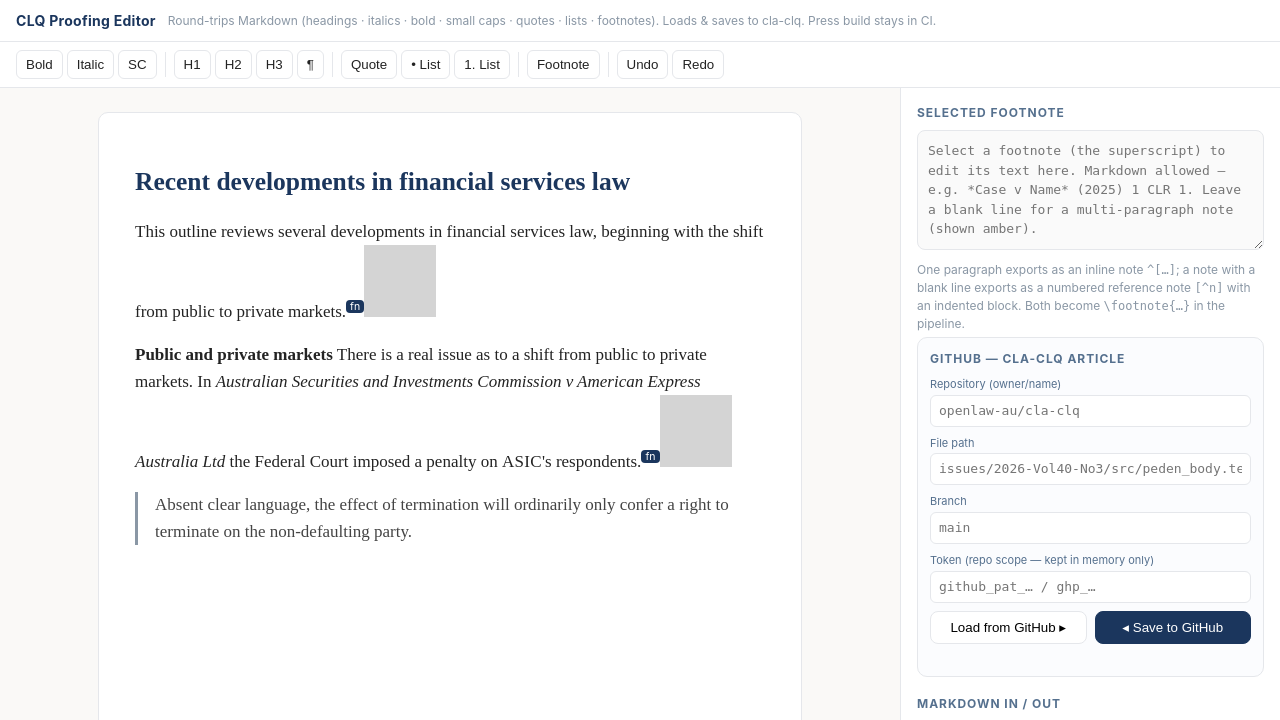
Test: ProofingEditor › GitHub panel › Save to GitHub: validation error (bad repo) short-circuits before the token check
Step 1. Type "bad repo no slash" into the field with placeholder "openlaw-au/cla-clq" → (1090, 411), box [930,394,1251,427]
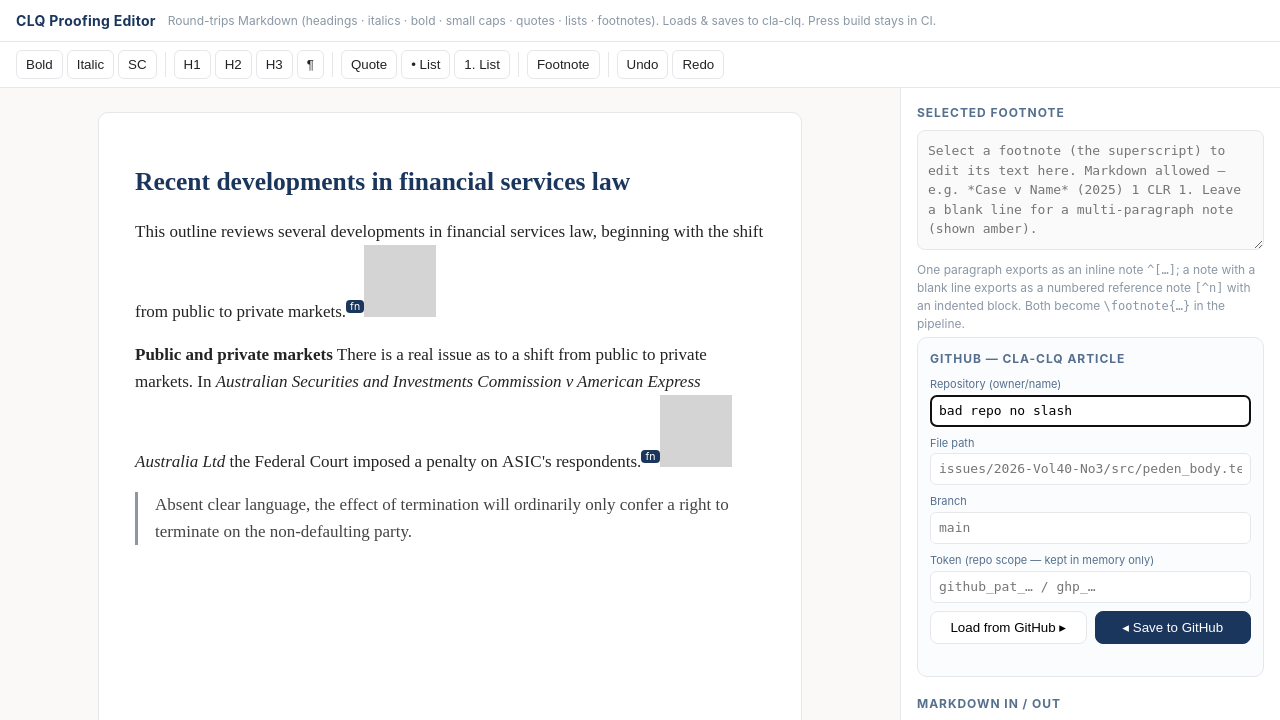
Step 2. Type "a.md" into the field with placeholder "issues/2026-Vol40-No3/src/peden_body.tex" → (1090, 469), box [930,453,1251,485]
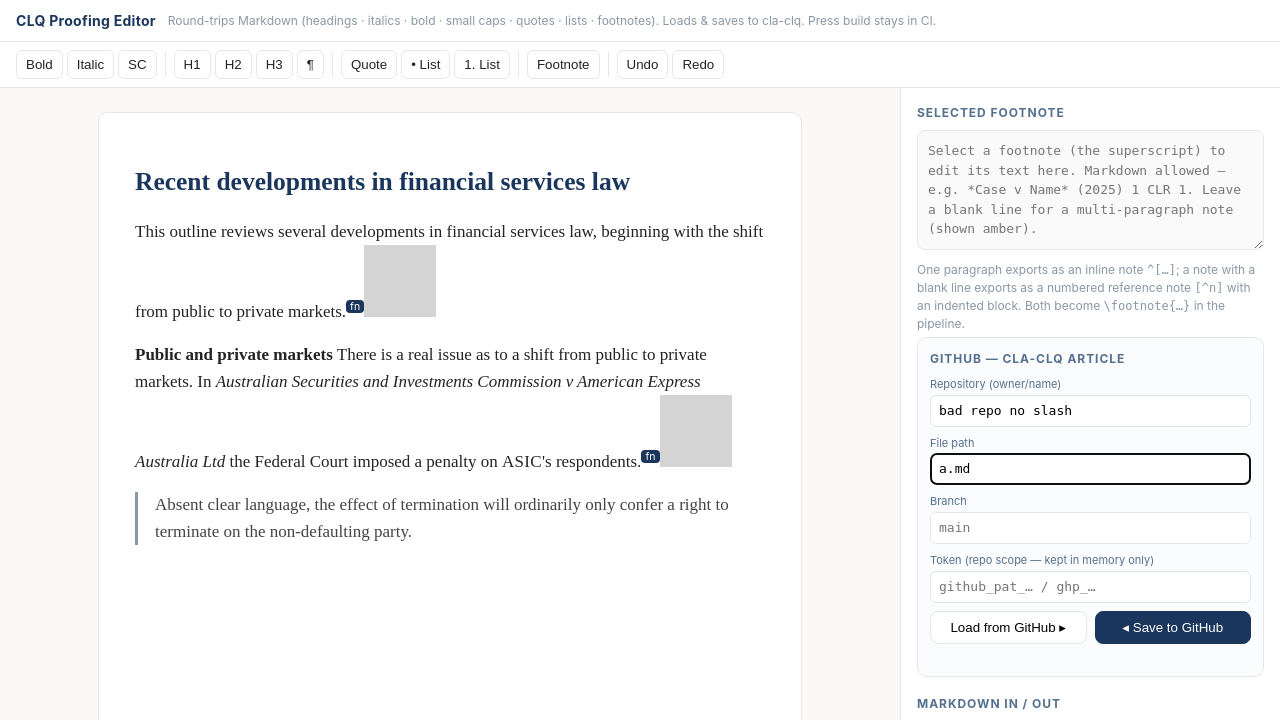
Step 3. Type "ghp_x" into the password field with placeholder "github_pat_… / ghp_…" → (1090, 587), box [930,571,1251,603]
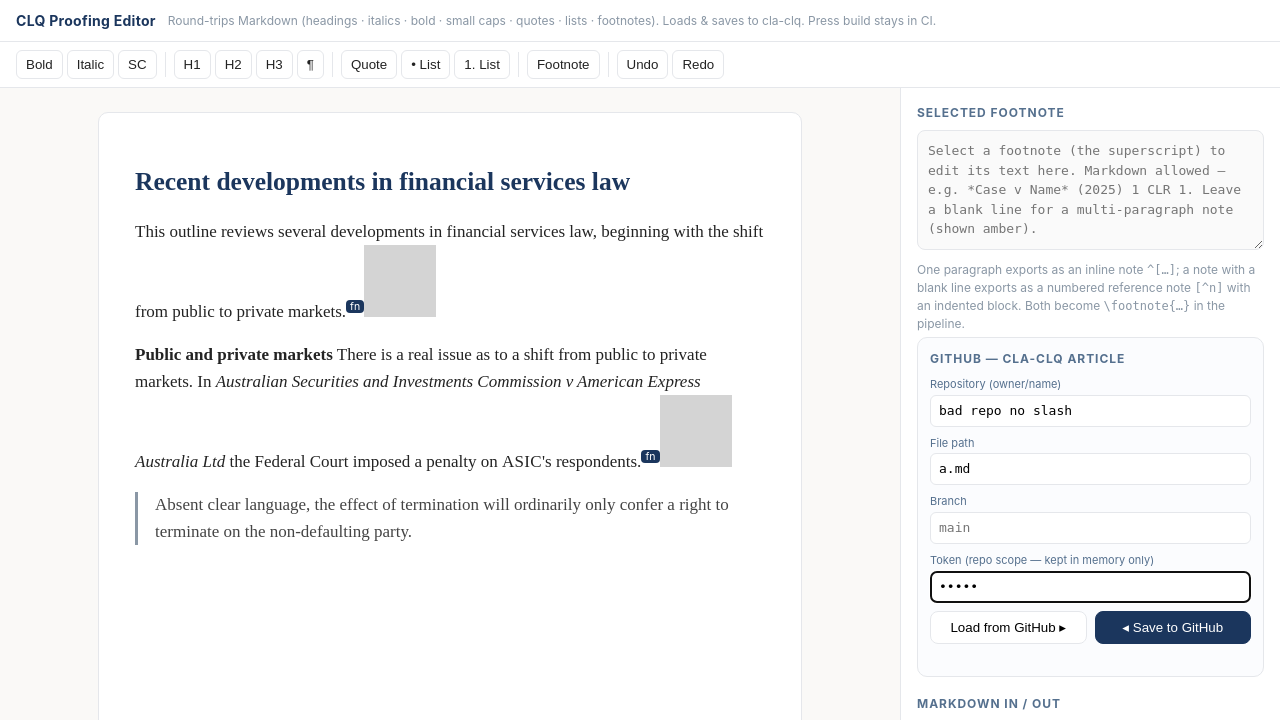
Step 4. Click the button "◂ Save to GitHub" → (1173, 627), box [1094,611,1251,644]
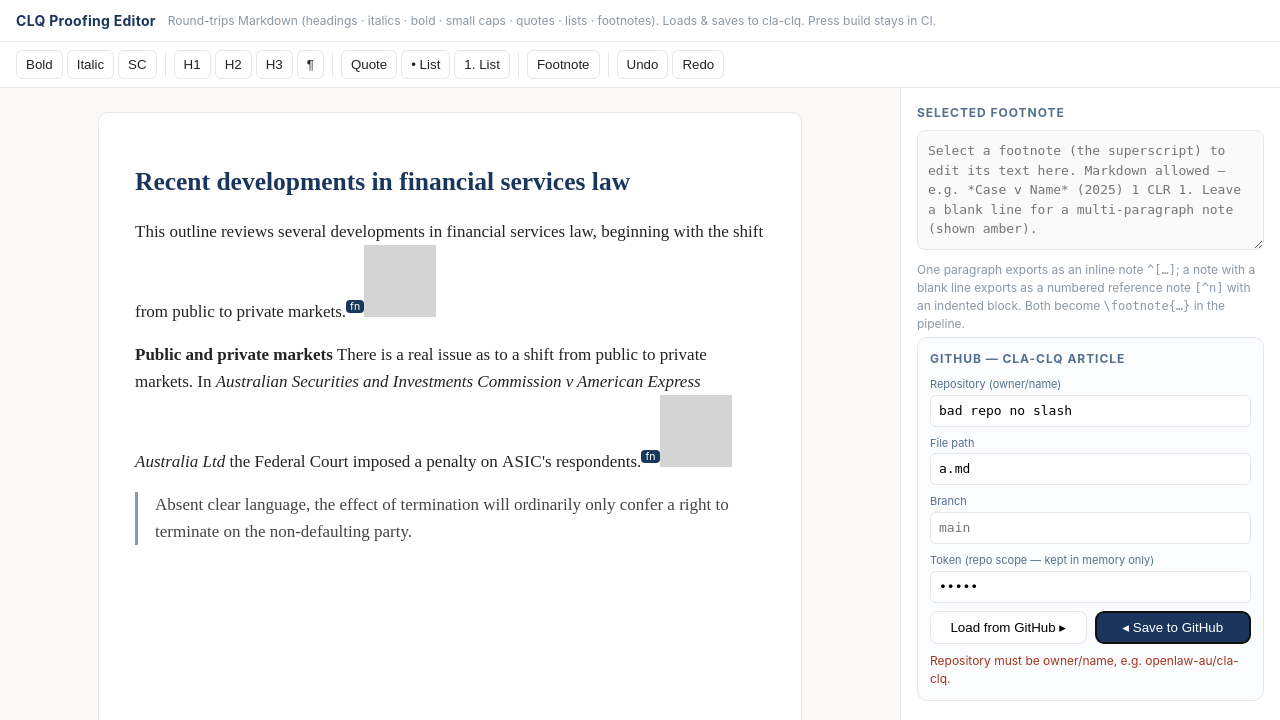
Now the text "Repository must be owner/name, e.g. openlaw-au/cla-clq." is shown, box [930,652,1251,688]
